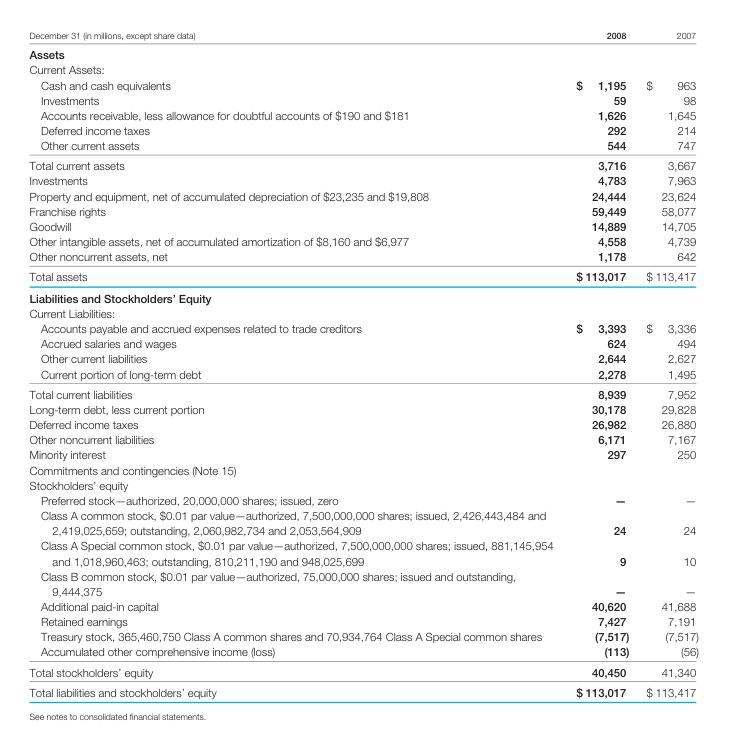table: (28, 29, 697, 698)
table column: (28, 29, 564, 698), (564, 29, 636, 698), (636, 29, 697, 698)
table column header: (28, 29, 697, 43)
table projected row header: (28, 286, 697, 305), (28, 43, 697, 61), (28, 476, 697, 492), (28, 61, 697, 76), (28, 305, 697, 320), (28, 461, 697, 476)
table row: (28, 567, 697, 598), (28, 507, 697, 537), (28, 537, 697, 567), (28, 266, 697, 286), (28, 661, 697, 681), (28, 286, 697, 305), (28, 43, 697, 61), (28, 154, 697, 172), (28, 248, 697, 266), (28, 365, 697, 383), (28, 383, 697, 401), (28, 643, 697, 661), (28, 137, 697, 154), (28, 681, 697, 698), (28, 106, 697, 122), (28, 202, 697, 218), (28, 476, 697, 492), (28, 61, 697, 76), (28, 76, 697, 91), (28, 91, 697, 106), (28, 122, 697, 137), (28, 172, 697, 187), (28, 187, 697, 202), (28, 218, 697, 233), (28, 233, 697, 248), (28, 305, 697, 320), (28, 320, 697, 335), (28, 335, 697, 350), (28, 350, 697, 365), (28, 401, 697, 416), (28, 416, 697, 431), (28, 431, 697, 446), (28, 446, 697, 461), (28, 461, 697, 476), (28, 492, 697, 507), (28, 598, 697, 613), (28, 613, 697, 628), (28, 628, 697, 643), (28, 29, 697, 43)
